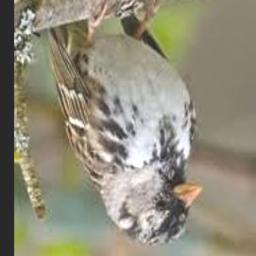Sparrow: (46, 0, 202, 245)
